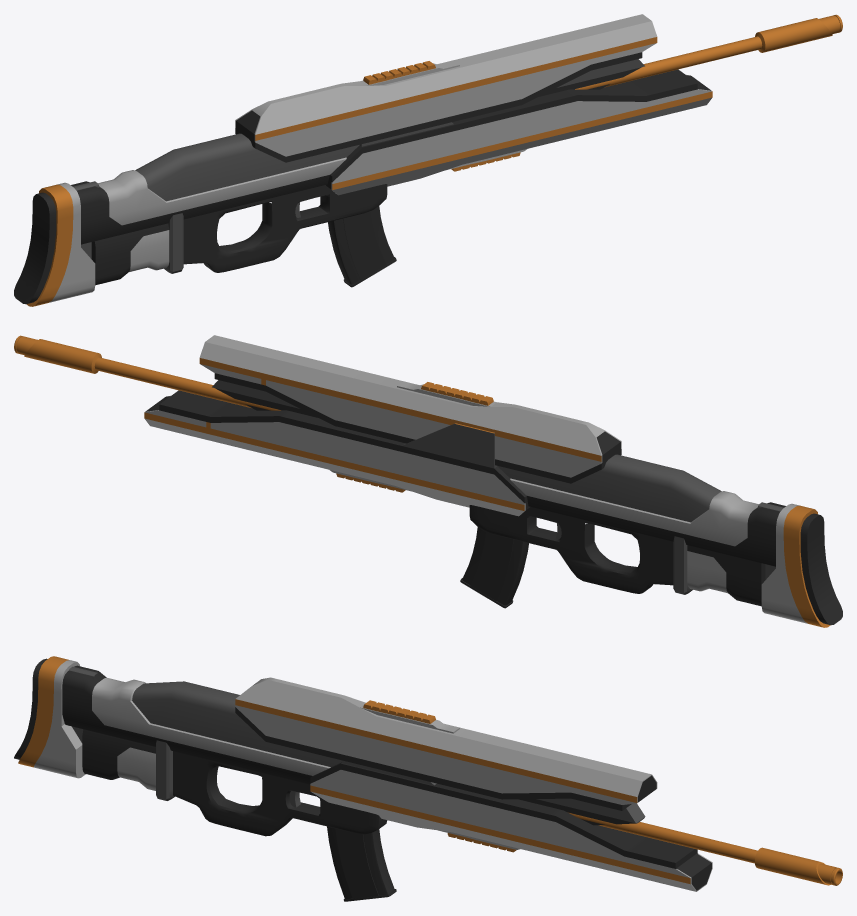
File: Sniper_1.glb
3 renders of one model, top to bottom at view 1: azimuth 30°, elevation 25°; view 2: azimuth 150°, elevation 25°; view 3: azimuth 330°, elevation 25°, orthographic.
Visible parts, largest first — view 1: Sniper_1, Magazine_Sniper; view 2: Sniper_1, Magazine_Sniper; view 3: Sniper_1, Magazine_Sniper.
Boxes of the visible parts, box(x1,y1,x2,y2) form: Sniper_1: box(14, 14, 842, 306); Magazine_Sniper: box(328, 206, 396, 287); Sniper_1: box(14, 335, 842, 627); Magazine_Sniper: box(460, 527, 528, 608); Sniper_1: box(14, 656, 842, 891); Magazine_Sniper: box(327, 826, 396, 901).
Size of the model in its own units: 2.22 by 0.5222 by 0.1028.
